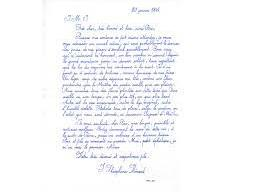text: (61, 137, 176, 148), (61, 39, 181, 49), (61, 51, 180, 61), (61, 110, 179, 120), (61, 74, 174, 84), (61, 62, 172, 72), (61, 92, 172, 102), (61, 104, 179, 113), (60, 57, 176, 66), (60, 81, 176, 90), (75, 118, 176, 128), (74, 149, 151, 162), (74, 32, 173, 42), (62, 98, 172, 107), (62, 131, 170, 140), (60, 86, 179, 94), (61, 70, 176, 78), (61, 126, 176, 134), (61, 46, 174, 54), (74, 23, 155, 32), (96, 162, 148, 174), (60, 144, 120, 152), (130, 6, 160, 15), (64, 14, 90, 23), (145, 179, 156, 182)
